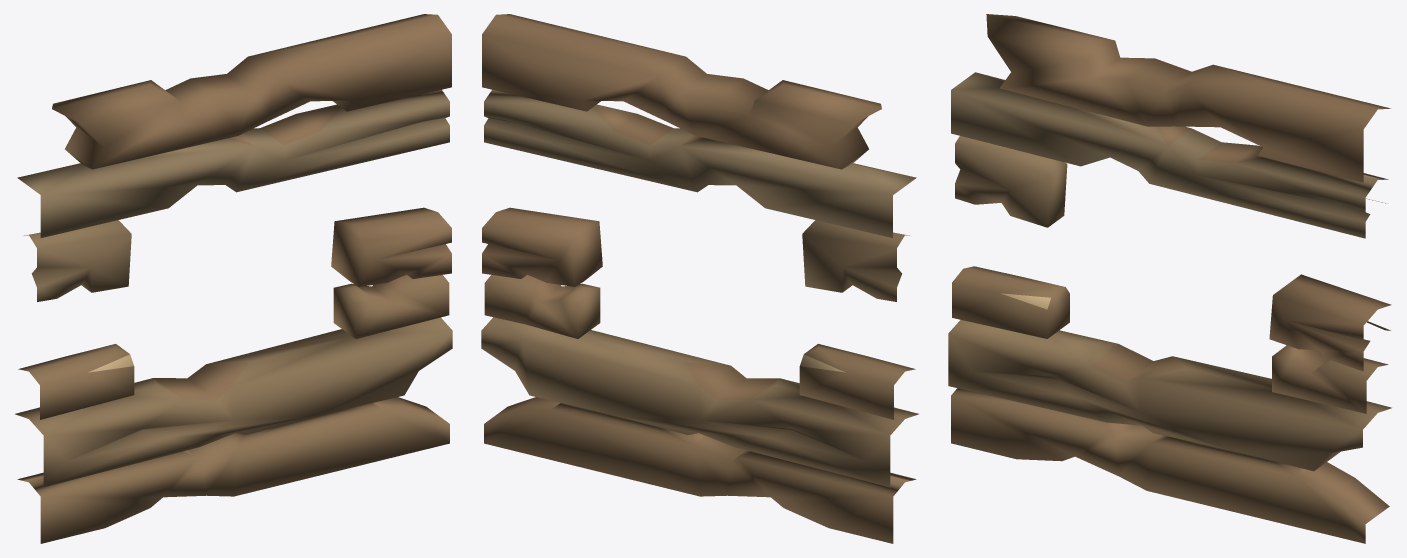
The model's file is rpgpp_av_wall_01_3x3_window_01b.gltf.
3 renders of one model, left to right at view 1: azimuth 30°, elevation 25°; view 2: azimuth 150°, elevation 25°; view 3: azimuth 330°, elevation 25°, orthographic.
Parts seen in each view (by area): view 1: rpgpp_av_wall_01_3x3_window_01b; view 2: rpgpp_av_wall_01_3x3_window_01b; view 3: rpgpp_av_wall_01_3x3_window_01b.
Boxes of the visible parts, x1,y1,x2,y2 form: rpgpp_av_wall_01_3x3_window_01b: (15, 14, 452, 543); rpgpp_av_wall_01_3x3_window_01b: (481, 14, 918, 543); rpgpp_av_wall_01_3x3_window_01b: (948, 14, 1391, 543).
Bounding box in the file's own units: 0.03 × 0.03 × 0.00374.
Materials: 1 (1 with a texture image).
